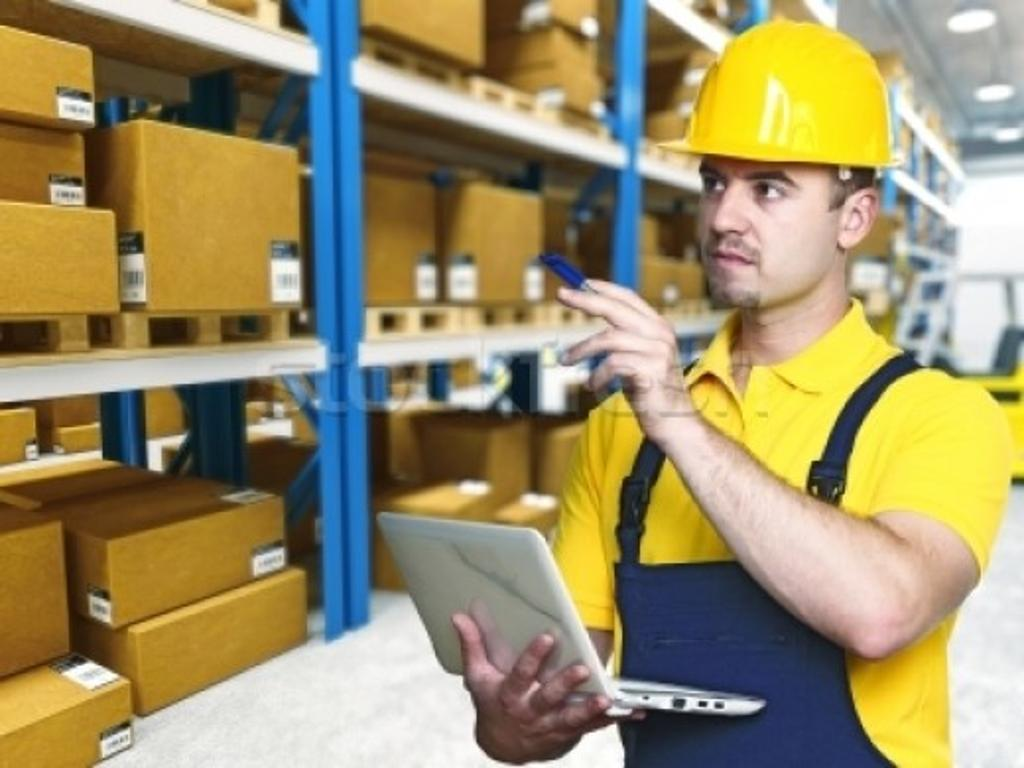face: (700, 102, 836, 296)
